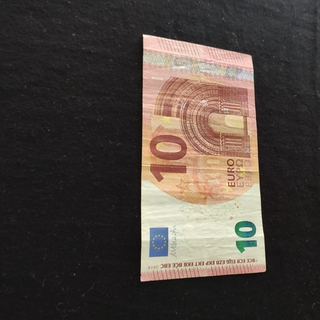10EUROFront: (139, 33, 267, 282)
